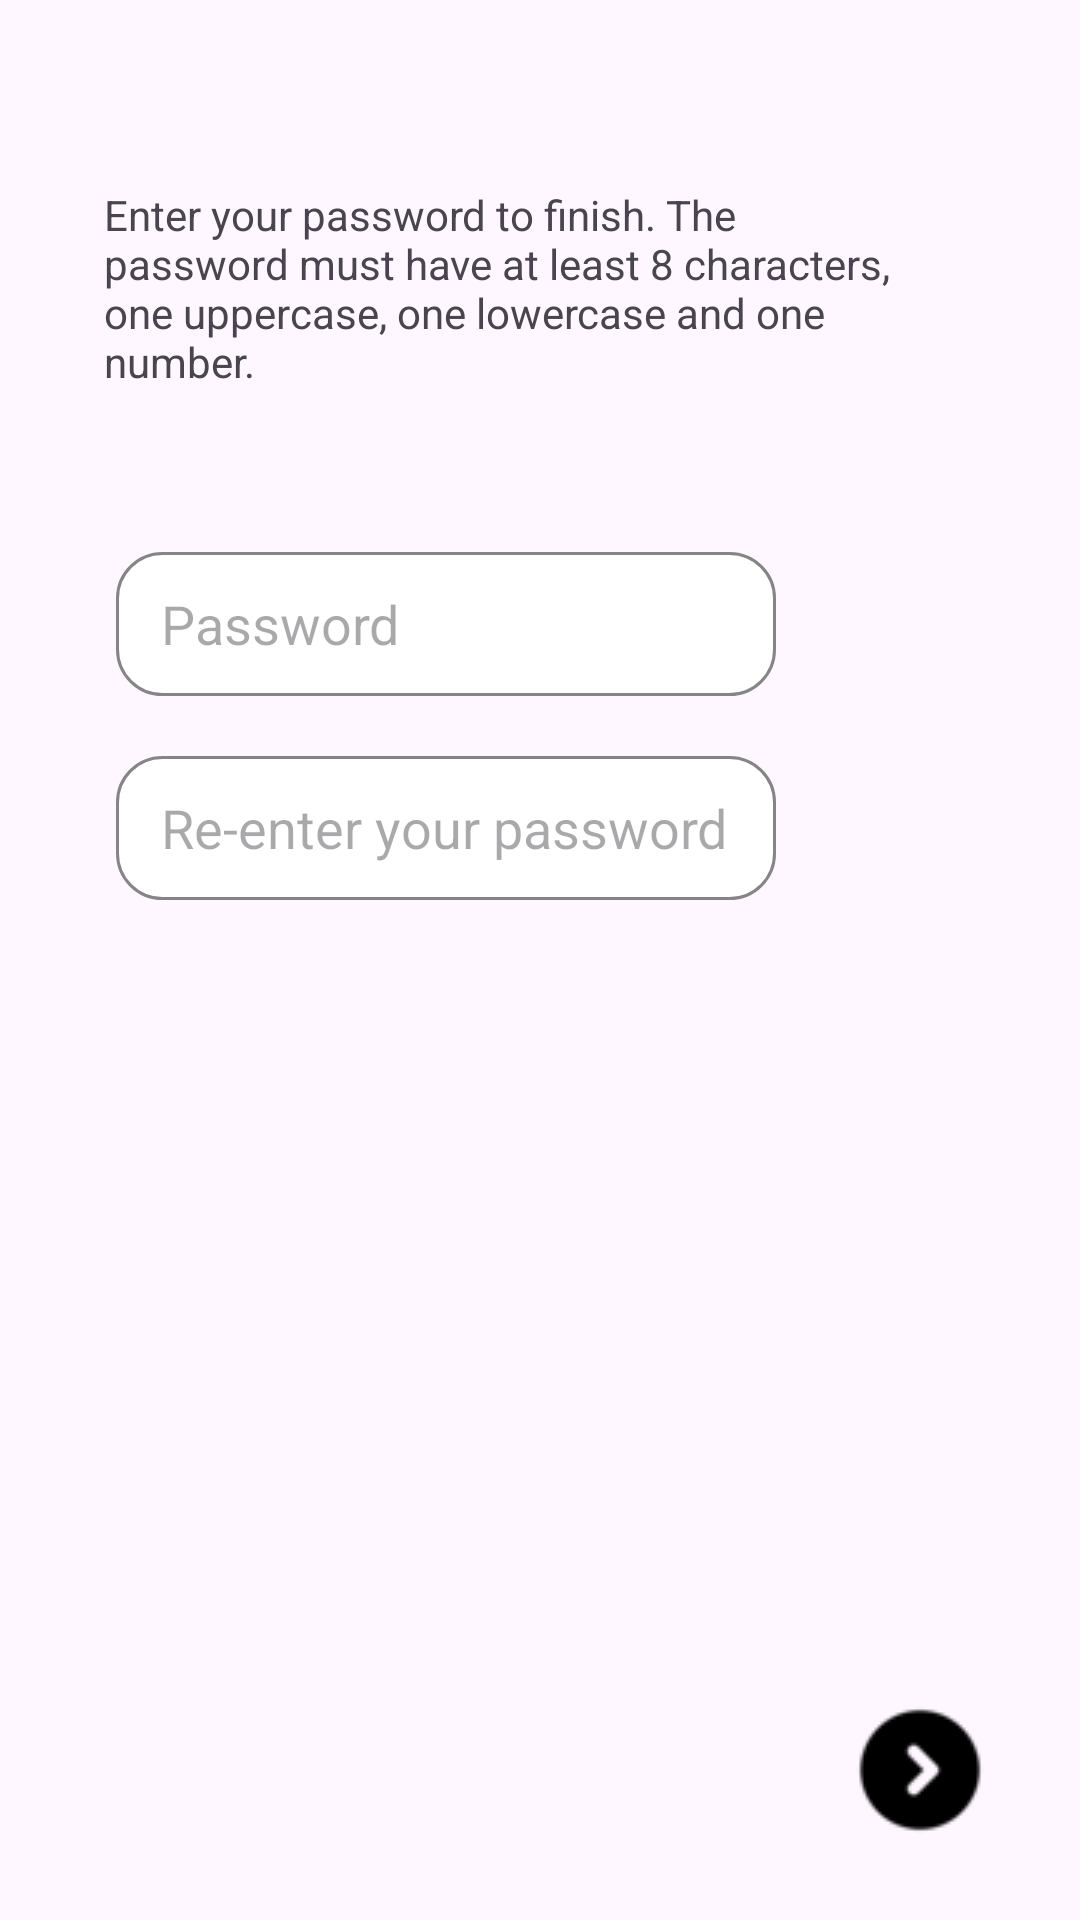

Point at icon controls on the screen. Image size 1080*1920, points as (x,y).
arrow: (920,1770)
